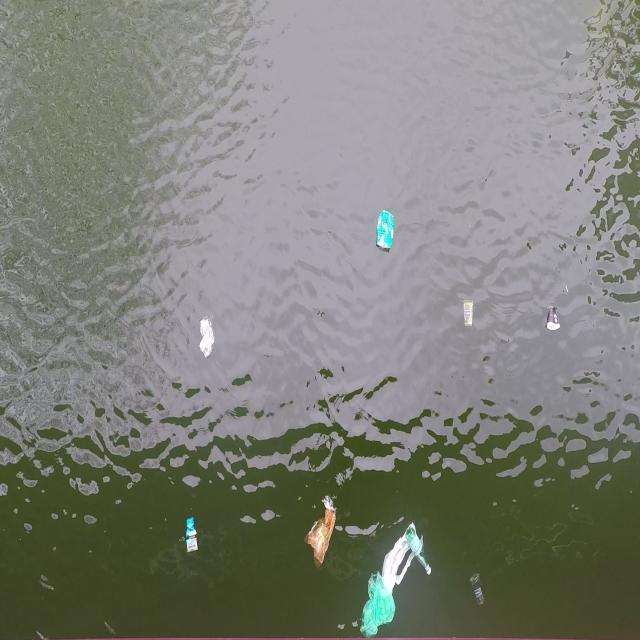Bouteille plastique: (407, 526, 433, 581)
Non plastique: (544, 304, 564, 336)
Sac plastique: (304, 491, 340, 571), (355, 570, 397, 638), (194, 312, 220, 363)
